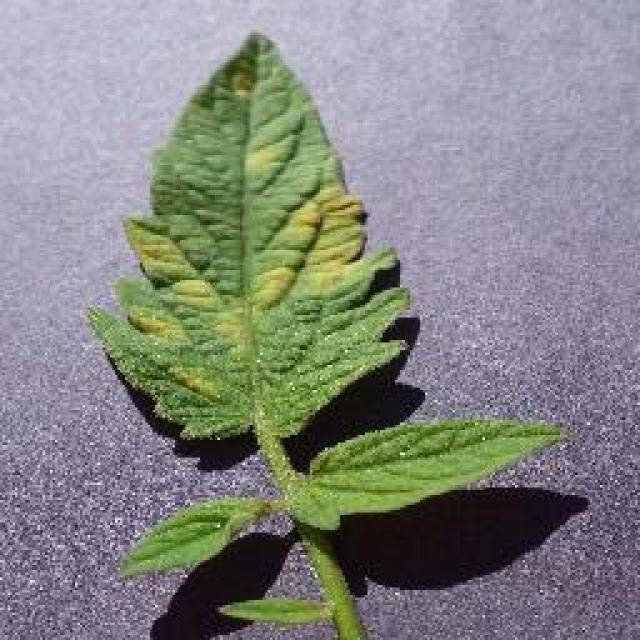Tomato mold leaf: (110, 38, 410, 440), (286, 430, 559, 515)
